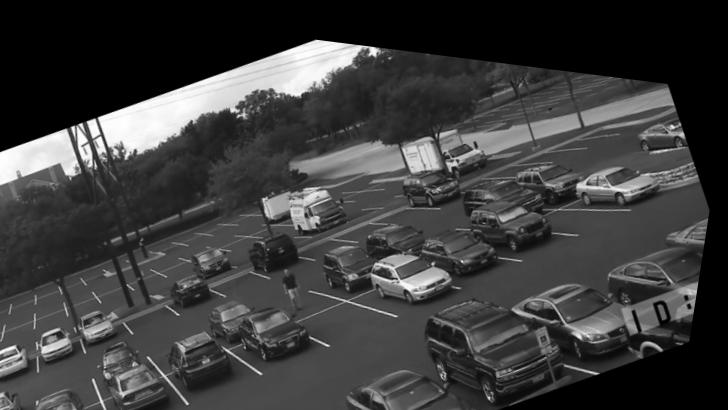empty: (309, 287, 407, 333), (549, 189, 632, 221), (132, 296, 192, 332), (50, 359, 101, 393), (279, 276, 335, 304), (340, 207, 394, 232), (159, 319, 202, 350), (550, 115, 616, 135), (222, 264, 274, 288), (383, 193, 441, 211), (308, 223, 353, 245), (46, 304, 80, 329), (103, 281, 145, 300), (137, 267, 179, 285), (15, 317, 47, 340), (126, 260, 164, 279), (76, 294, 111, 314), (527, 135, 584, 147), (74, 283, 106, 304), (230, 228, 268, 245), (338, 178, 384, 192), (156, 247, 191, 265), (435, 200, 476, 215), (16, 306, 45, 327), (45, 294, 74, 315), (66, 272, 98, 291), (490, 149, 535, 162), (101, 273, 134, 290), (167, 254, 200, 270), (214, 223, 247, 239), (182, 237, 216, 252), (88, 264, 118, 281), (13, 329, 43, 346), (46, 280, 70, 301), (237, 238, 262, 257), (259, 215, 297, 227), (240, 213, 275, 226), (156, 234, 191, 247), (22, 291, 45, 309), (165, 273, 186, 289), (210, 216, 240, 227), (186, 226, 218, 236), (0, 303, 18, 320), (232, 207, 263, 216), (0, 330, 13, 346), (0, 320, 15, 332), (0, 349, 5, 365)
occupied: (431, 283, 589, 390), (516, 266, 666, 339), (342, 351, 494, 410), (616, 228, 708, 291), (375, 239, 462, 298), (176, 324, 252, 383), (476, 186, 557, 238), (428, 214, 510, 264), (250, 296, 324, 351), (117, 353, 185, 410), (580, 149, 665, 189), (295, 179, 354, 224), (407, 153, 466, 197), (364, 212, 432, 250), (255, 224, 311, 270), (521, 148, 584, 188), (330, 236, 382, 282), (469, 164, 539, 197), (218, 292, 260, 337), (640, 98, 690, 134), (178, 267, 221, 302), (4, 341, 42, 379), (46, 383, 99, 410), (672, 196, 713, 230), (89, 307, 128, 340), (199, 242, 239, 273), (51, 325, 85, 360), (114, 338, 146, 369), (2, 389, 33, 410)
